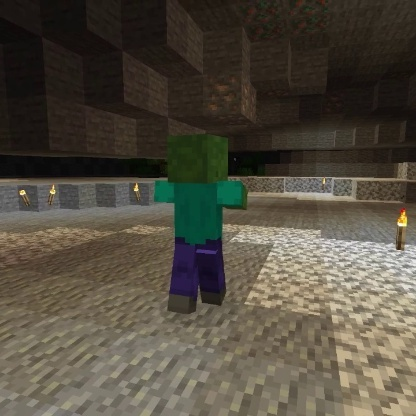zombie: (148, 131, 251, 318)
